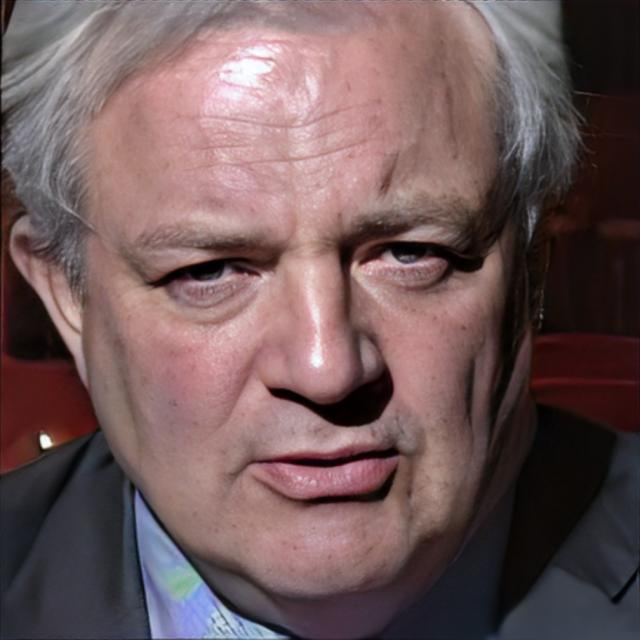disgust: (80, 3, 518, 600)
